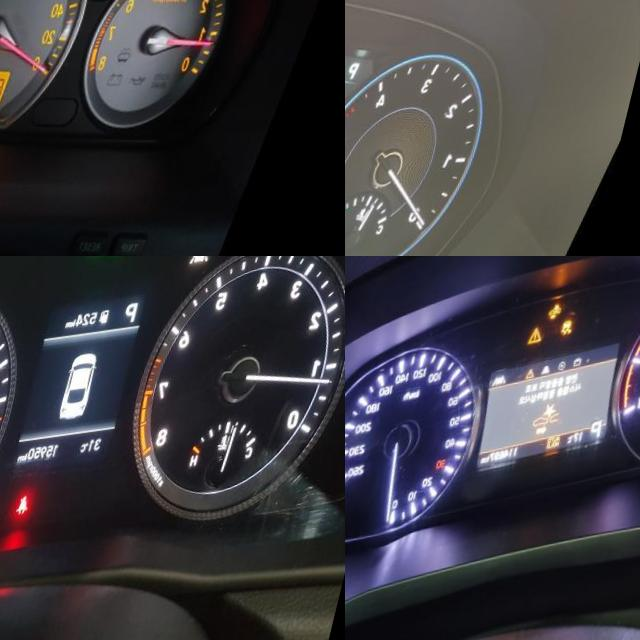Central Warning lamp: (541, 332, 560, 351)
Low beam: (120, 256, 139, 260)
SideLamp: (97, 256, 118, 261)
